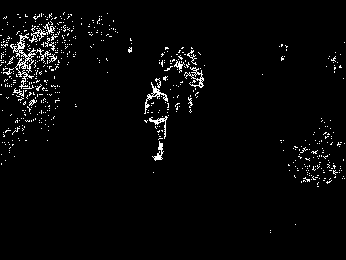person: (143, 78, 169, 163)
